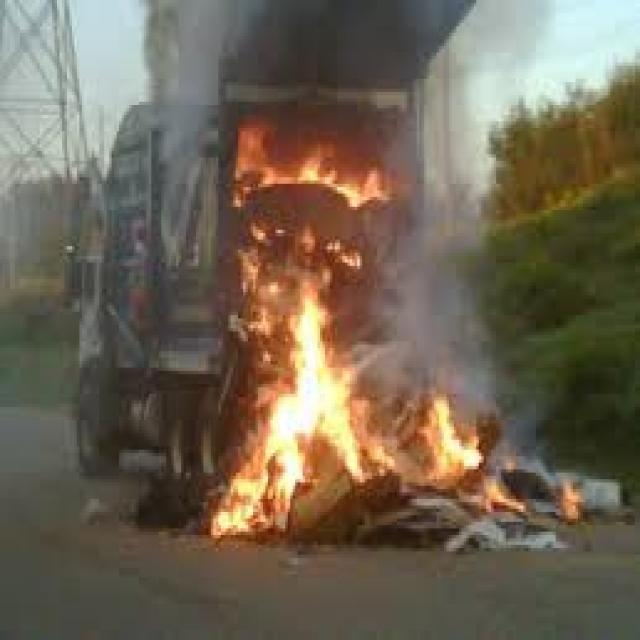Fire: (230, 376, 483, 546), (238, 130, 382, 369)
Smoke: (399, 2, 542, 370)
